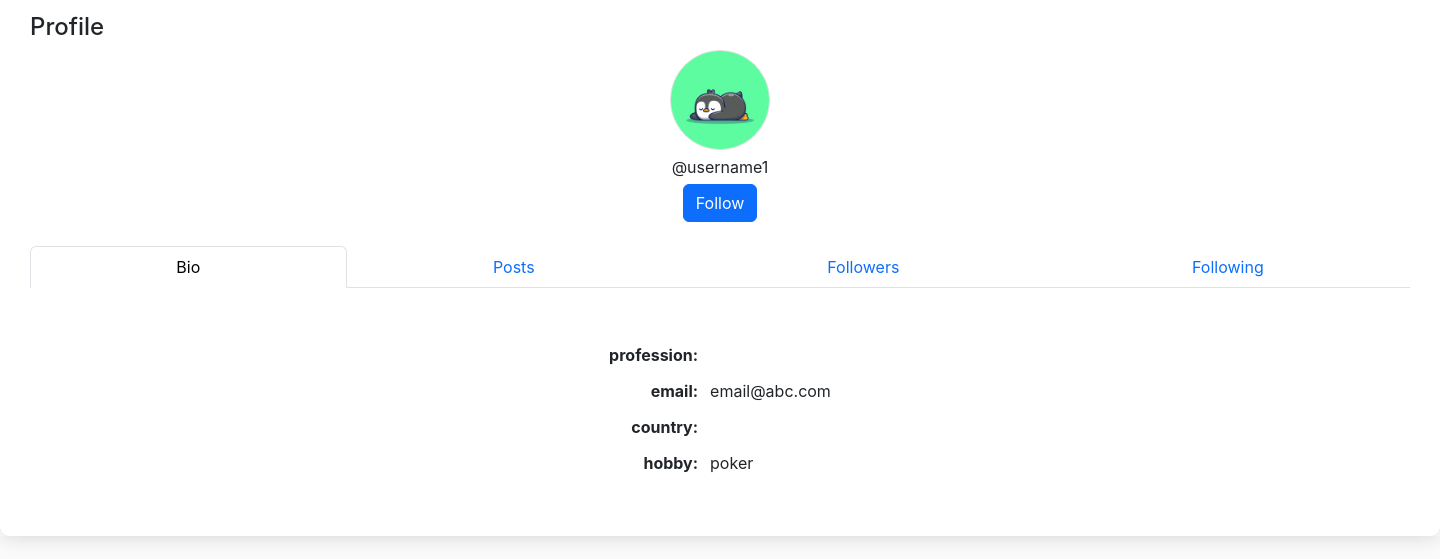
Test: replaces the follow button with unfollow button once the authenticated user successfully follows another user
Note: Simulate the click event on the follow button.
Click the button "Follow": (720, 203) [683,184,757,222]
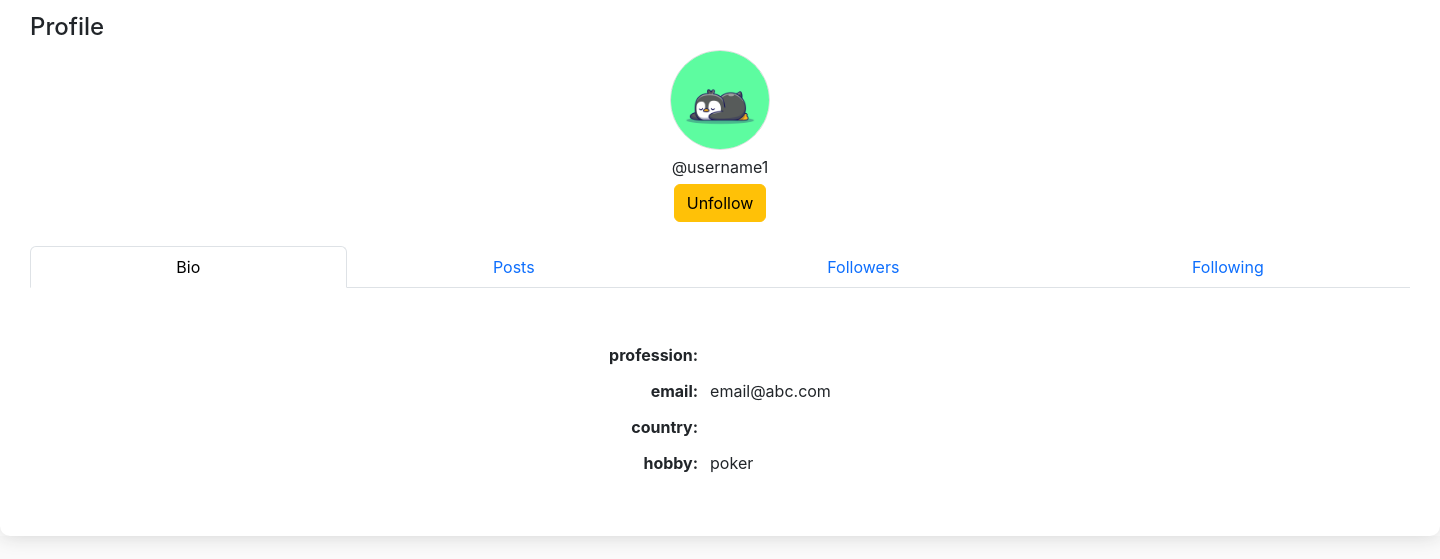
Expected: the button "Unfollow" is shown, [674,184,766,222]
